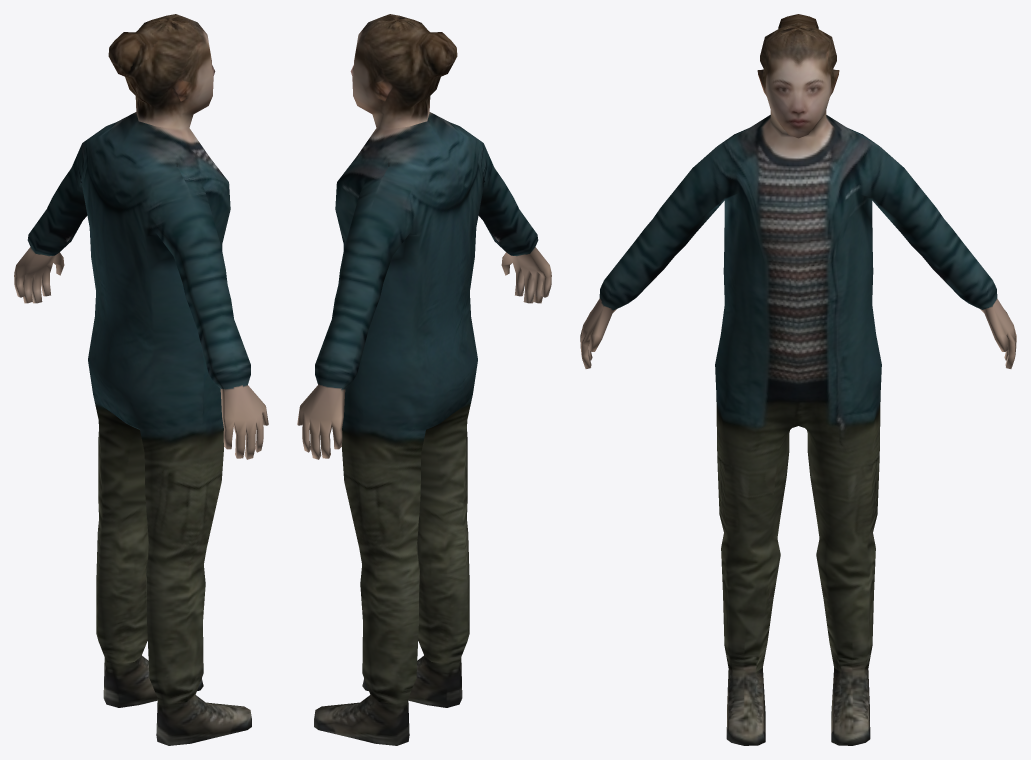
Rendered from Character_34_Female.fbx.
The picture shows the model from 3 angles, left to right: view 1: azimuth 30°, elevation 25°; view 2: azimuth 150°, elevation 25°; view 3: azimuth 270°, elevation 25°; orthographic projection.
Parts seen in each view (by area): view 1: Character_34_Female; view 2: Character_34_Female; view 3: Character_34_Female.
Part boxes in pixels (bbox=[...]): Character_34_Female: bbox=[14, 14, 268, 745]; Character_34_Female: bbox=[297, 14, 551, 745]; Character_34_Female: bbox=[580, 14, 1016, 745].
Size of the model in its own units: 0.3078 by 1.7 by 0.9706.
